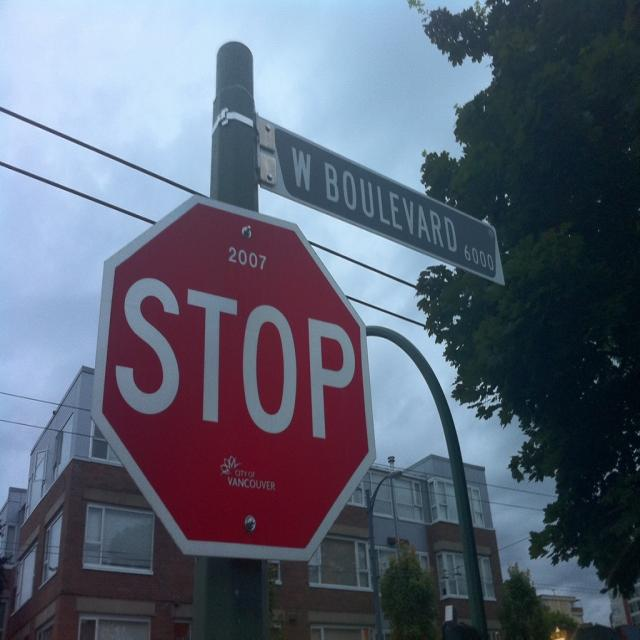Stop-sign: (89, 190, 378, 564)
